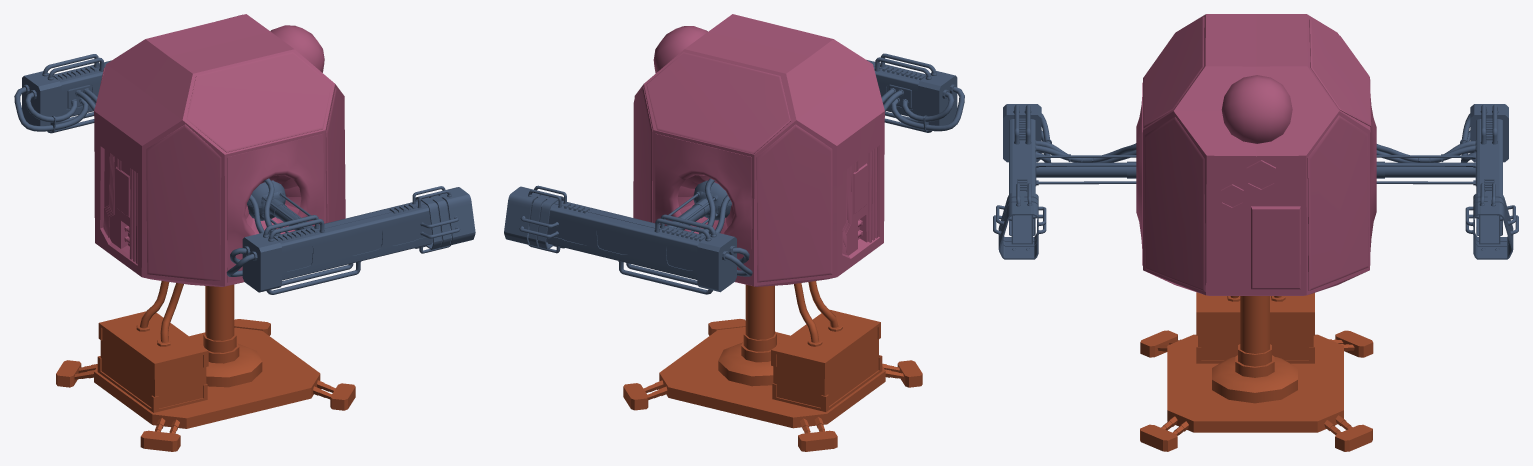
File: Turret_Var1.fbx
3 renders of one model, left to right at view 1: azimuth 30°, elevation 25°; view 2: azimuth 150°, elevation 25°; view 3: azimuth 270°, elevation 25°, orthographic. The views are drawn at different scales.
Parts seen in each view (by area): view 1: polySurface1323, polySurface1308; view 2: polySurface1323, polySurface1308; view 3: polySurface1323, polySurface1308.
Part boxes in pixels (box(x1,y1,x2,y2)): polySurface1323: box(14, 14, 475, 294); polySurface1308: box(56, 281, 355, 451); polySurface1323: box(504, 14, 964, 294); polySurface1308: box(623, 281, 922, 451); polySurface1323: box(993, 14, 1518, 295); polySurface1308: box(1140, 292, 1373, 451).
Bounding box in the file's own units: 8.09 × 10.42 × 13.65.
